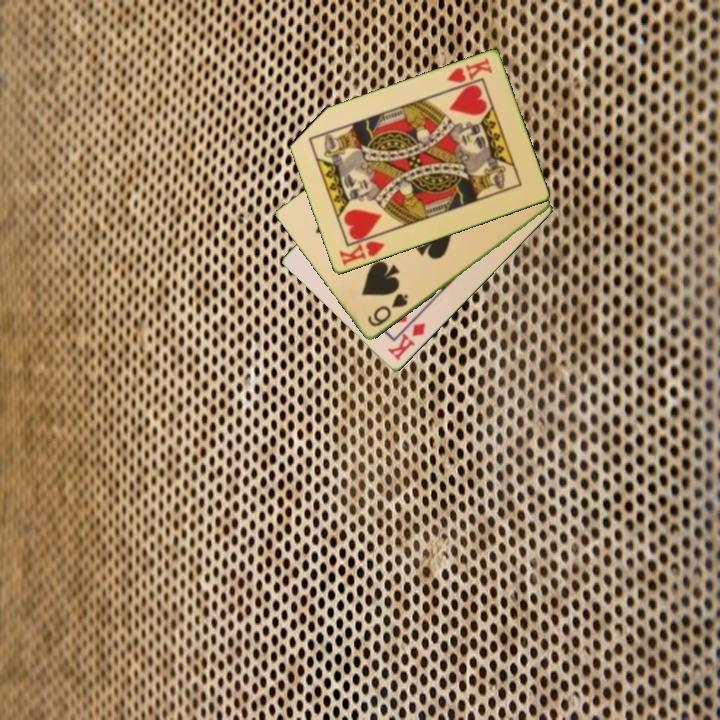6s: (364, 290, 411, 330)
Kd: (384, 312, 429, 364)
Kh: (335, 231, 387, 269), (443, 55, 495, 86)
